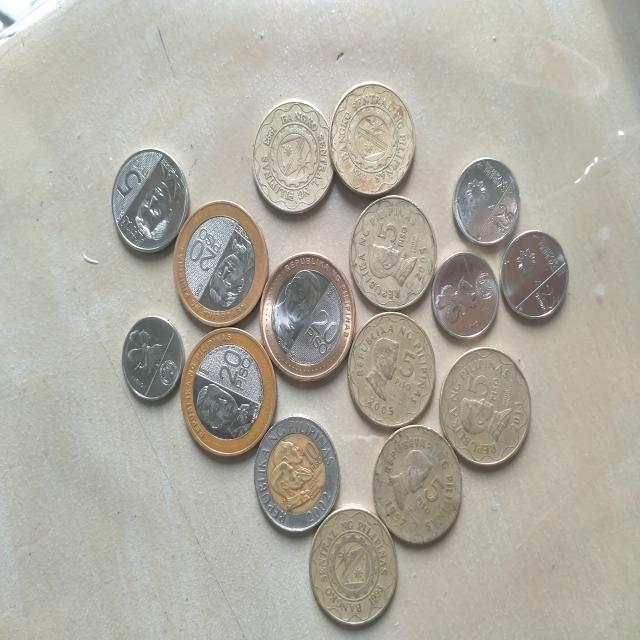10_Old_Front: (294, 433, 331, 483)
20_New_Front: (304, 301, 342, 356), (218, 345, 256, 397), (188, 225, 225, 274)
25Cent_New_Back: (437, 271, 478, 327), (123, 326, 166, 378)
25Cent_New_Front: (532, 282, 562, 320), (488, 201, 516, 235)
5_New_Front: (115, 152, 152, 204)
5_Old_Front: (375, 214, 412, 259), (386, 344, 420, 387), (418, 466, 445, 514)
